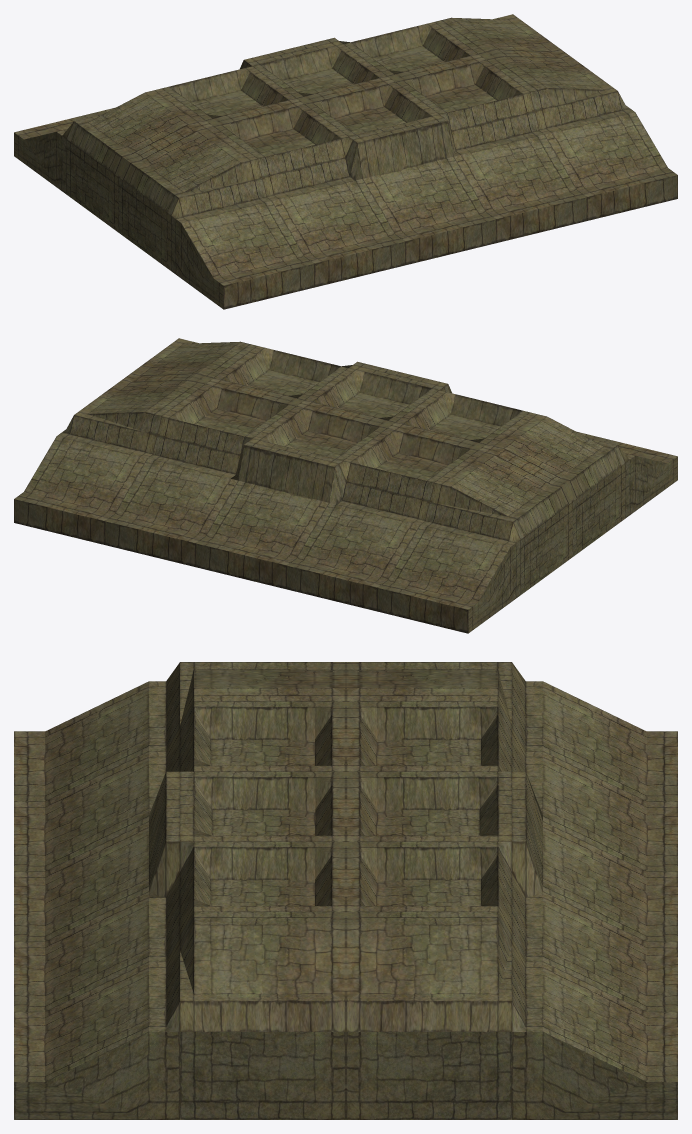
The model's file is J_Models_1(Fix).fbx.
3 renders of one model, top to bottom at view 1: azimuth 30°, elevation 25°; view 2: azimuth 150°, elevation 25°; view 3: azimuth 270°, elevation 25°, orthographic. The views are drawn at different scales.
Parts seen in each view (by area): view 1: Cube_027; view 2: Cube_027; view 3: Cube_027.
Boxes of the visible parts, x1,y1,x2,y2 form: Cube_027: (14,14,677,309); Cube_027: (14,338,677,633); Cube_027: (14,662,677,1119).
Bounding box in the file's own units: 30 × 5.5 × 24.
